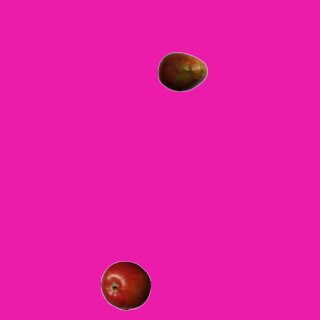Apple Braeburn: (100, 260, 150, 310)
Mango Red: (157, 46, 207, 96)
